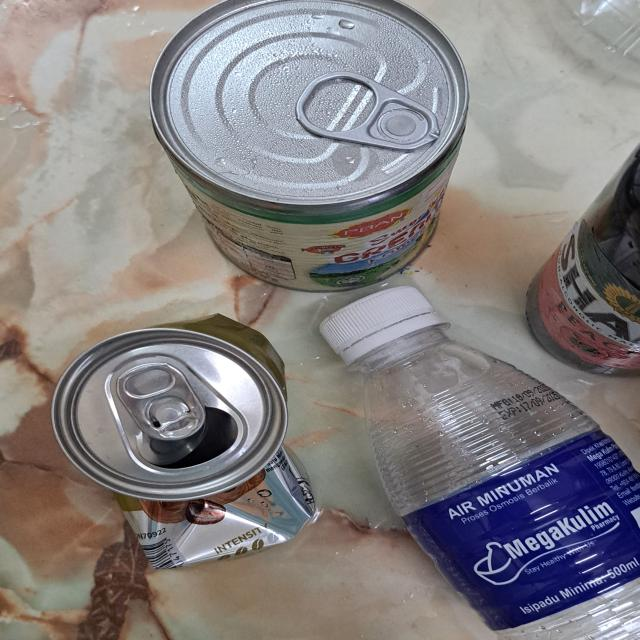can: (148, 0, 469, 295), (49, 313, 322, 571)
plastic bottle: (362, 338, 640, 640)
plastic bottle cap: (320, 287, 442, 358)
pop tab: (295, 72, 440, 150), (112, 362, 204, 439)
